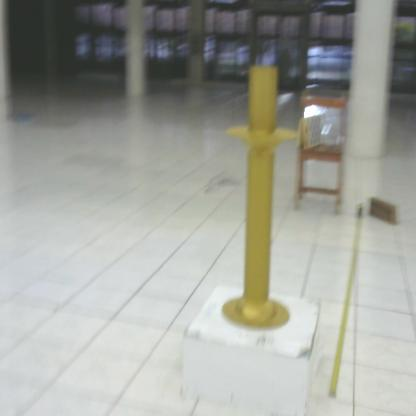pole: (216, 61, 300, 339)
